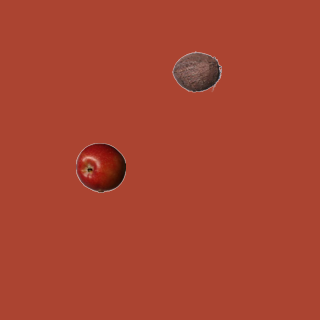Apple Braeburn: (75, 142, 125, 192)
Cocos: (171, 46, 221, 96)
